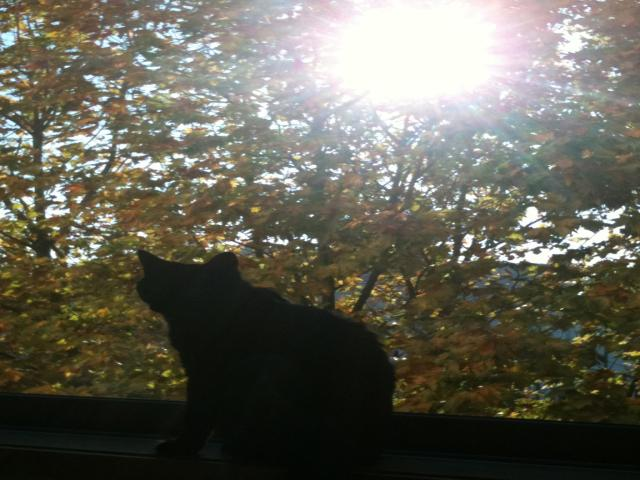Cat: (134, 249, 403, 444)
